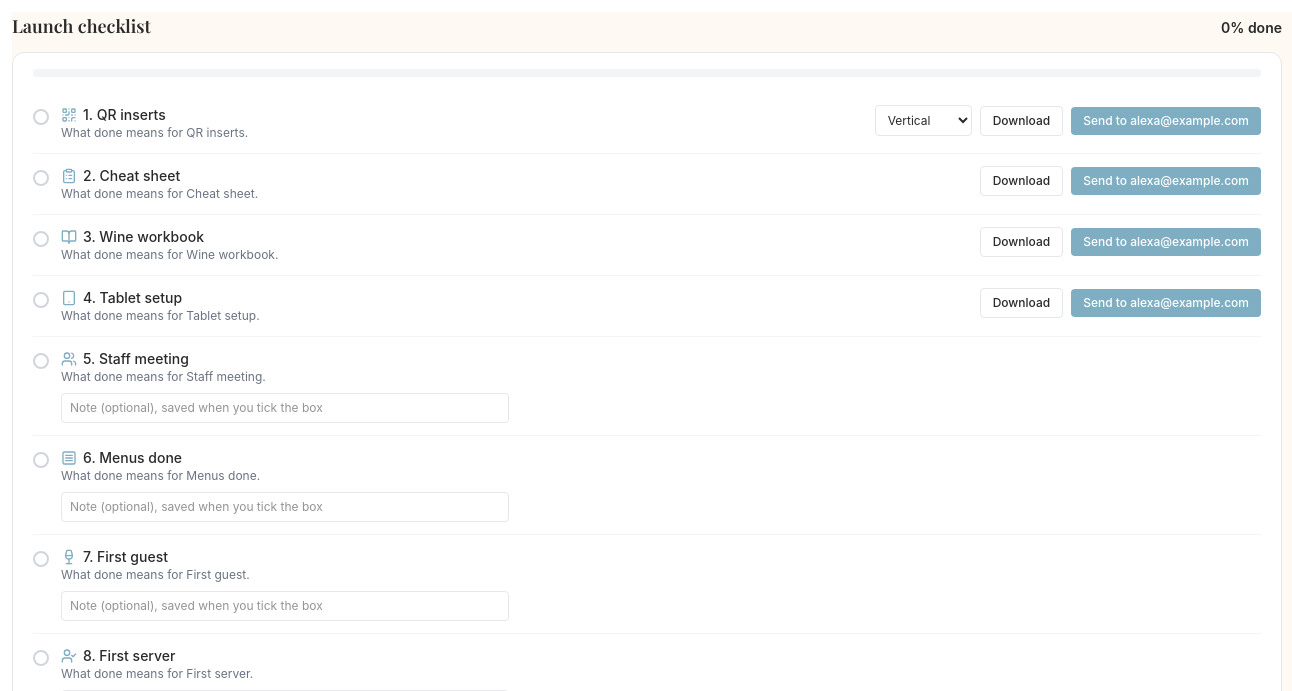
Test: Launch checklist section › shows the server refusal when a send is refused
Check: the text "0% done" is shown, box [1221,18,1282,38]
Click the button "Send to alexa@example.com" in the row of "What done means for Wine workbook.": (1166, 242) [1071,228,1261,256]
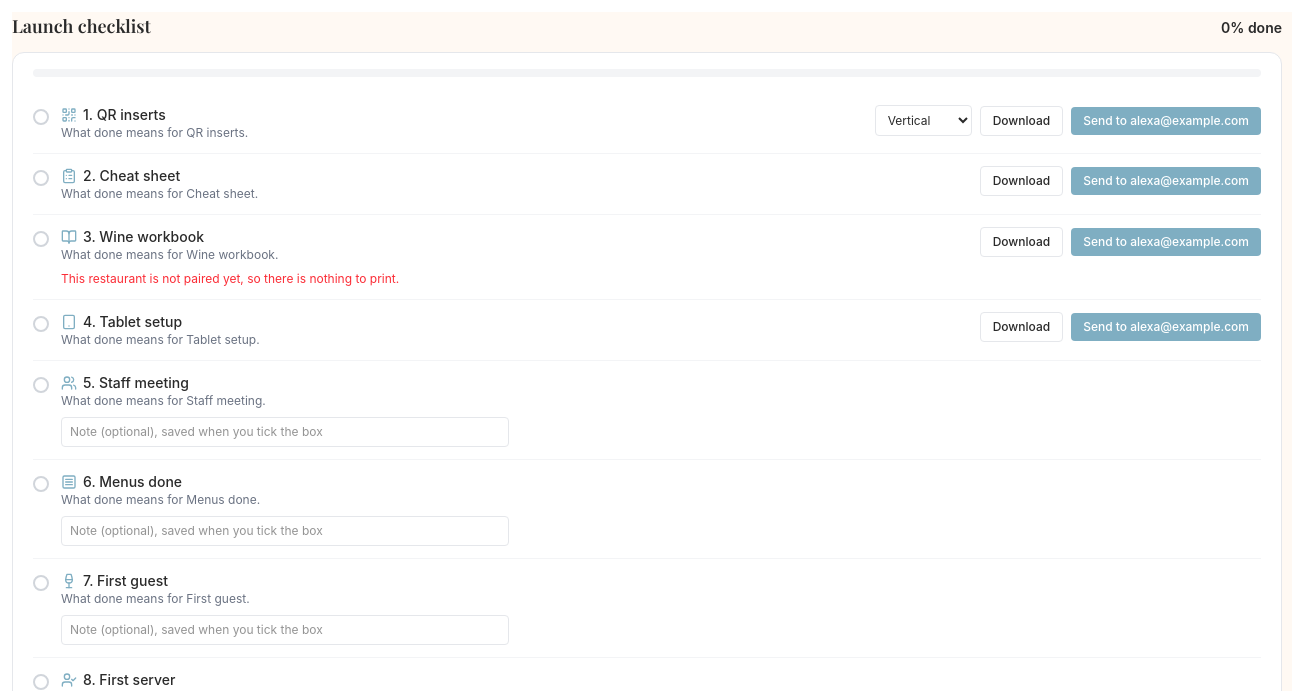
Check: the text "This restaurant is not paired yet, so there is nothing to print." is shown, box [61,271,399,286]
